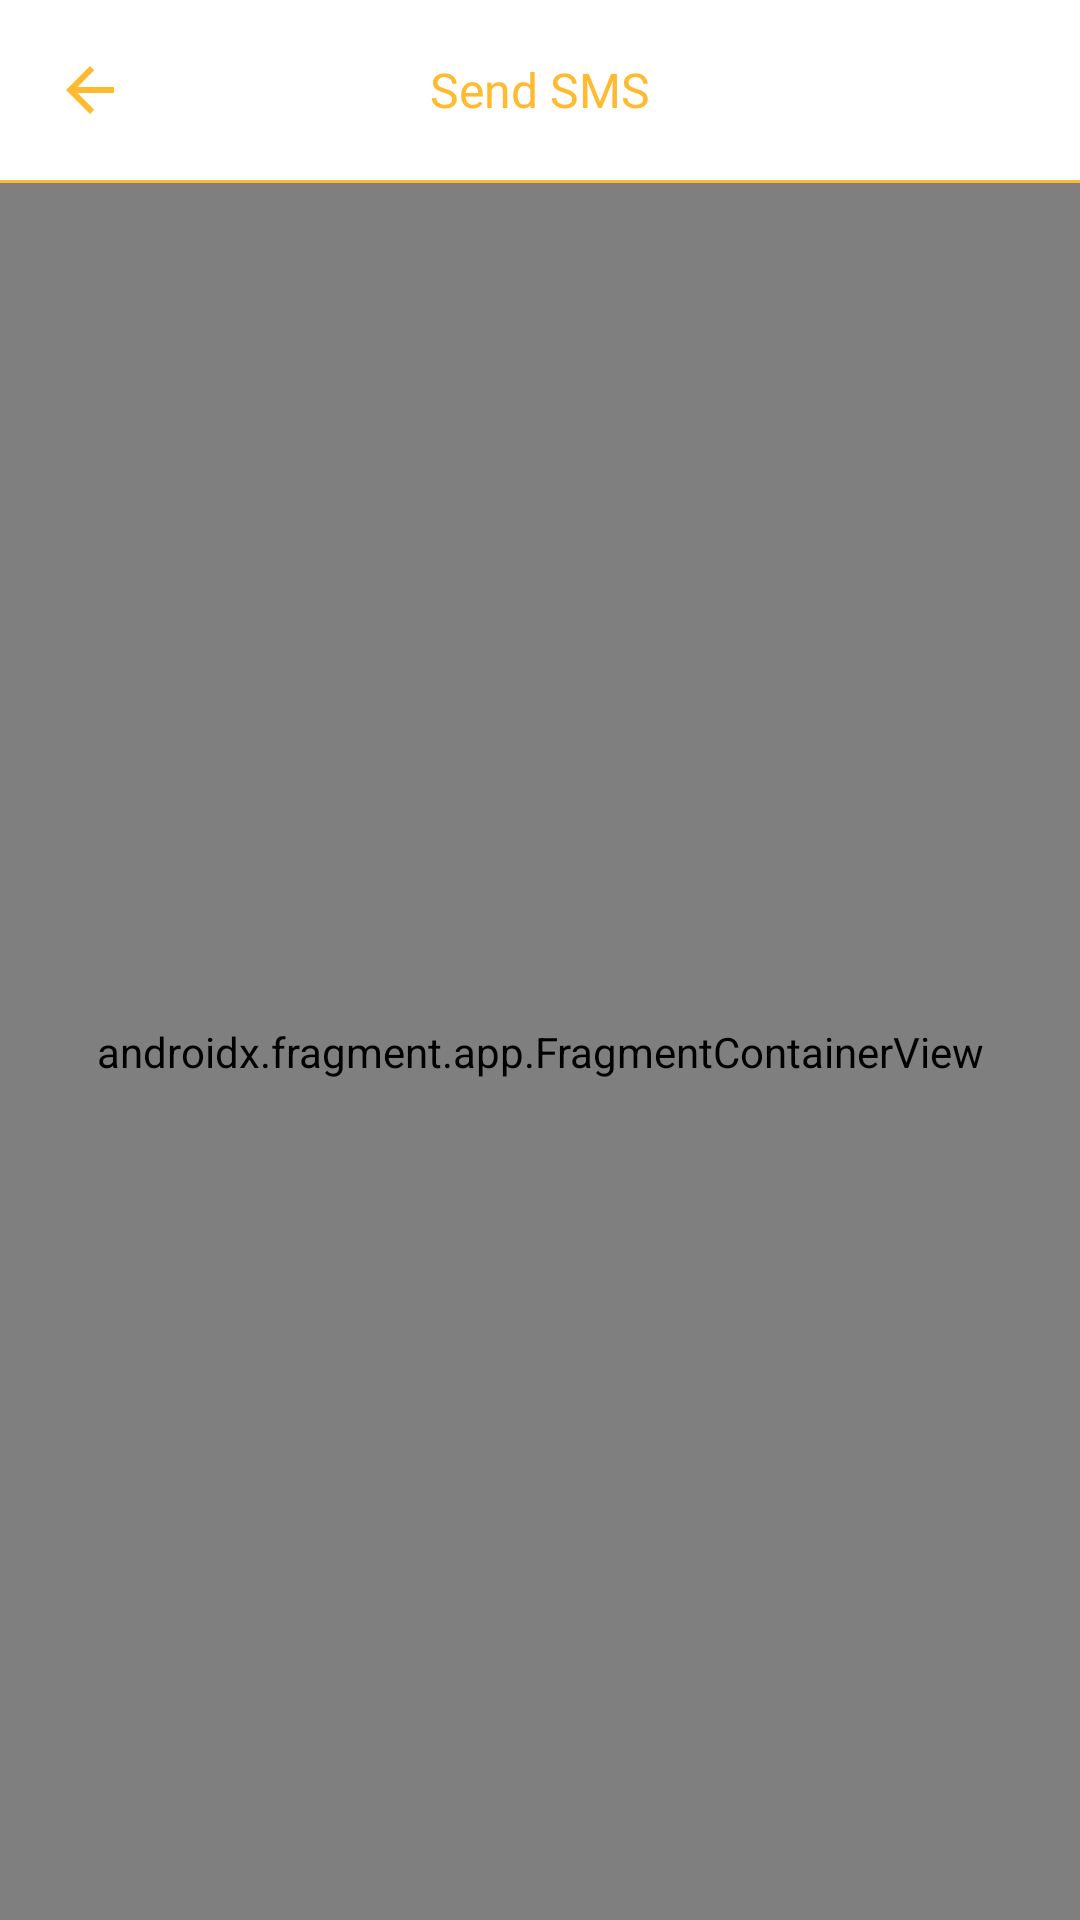

Named icons in this screenshot (1080x1920) and their centers, (x=x, y=y):
back: (x=90, y=90)
